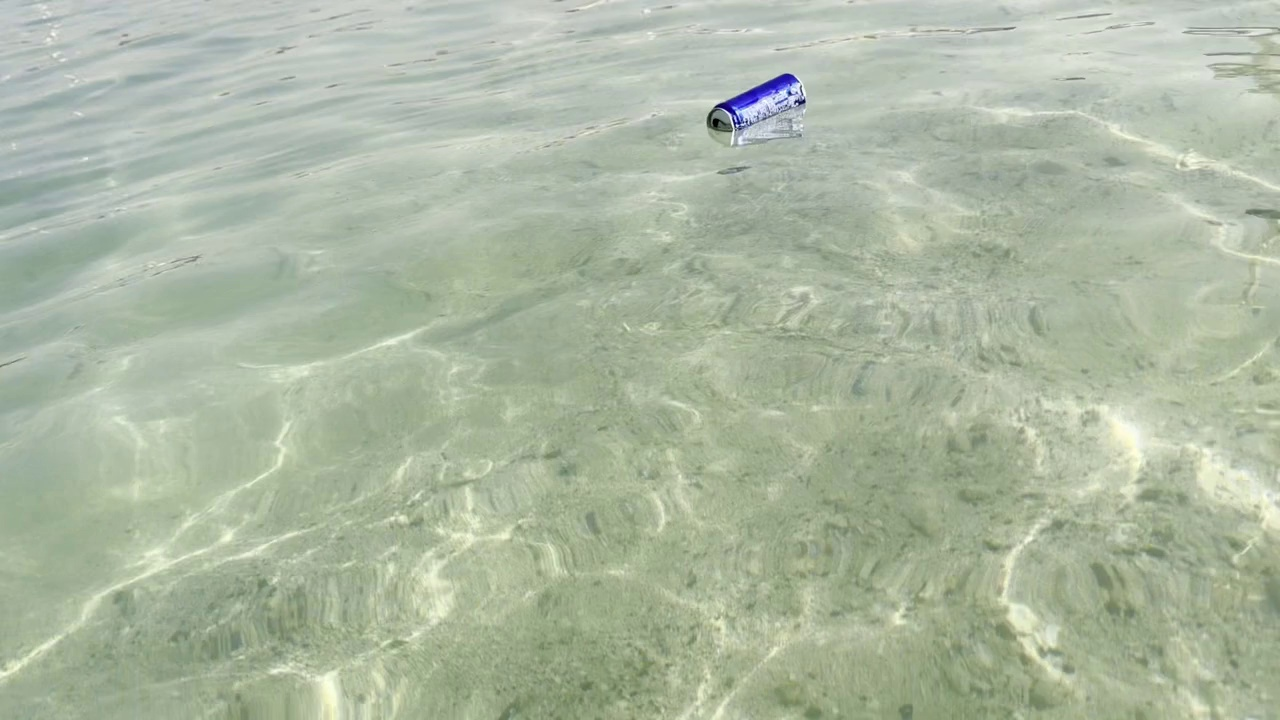debris: (704, 64, 810, 152)
